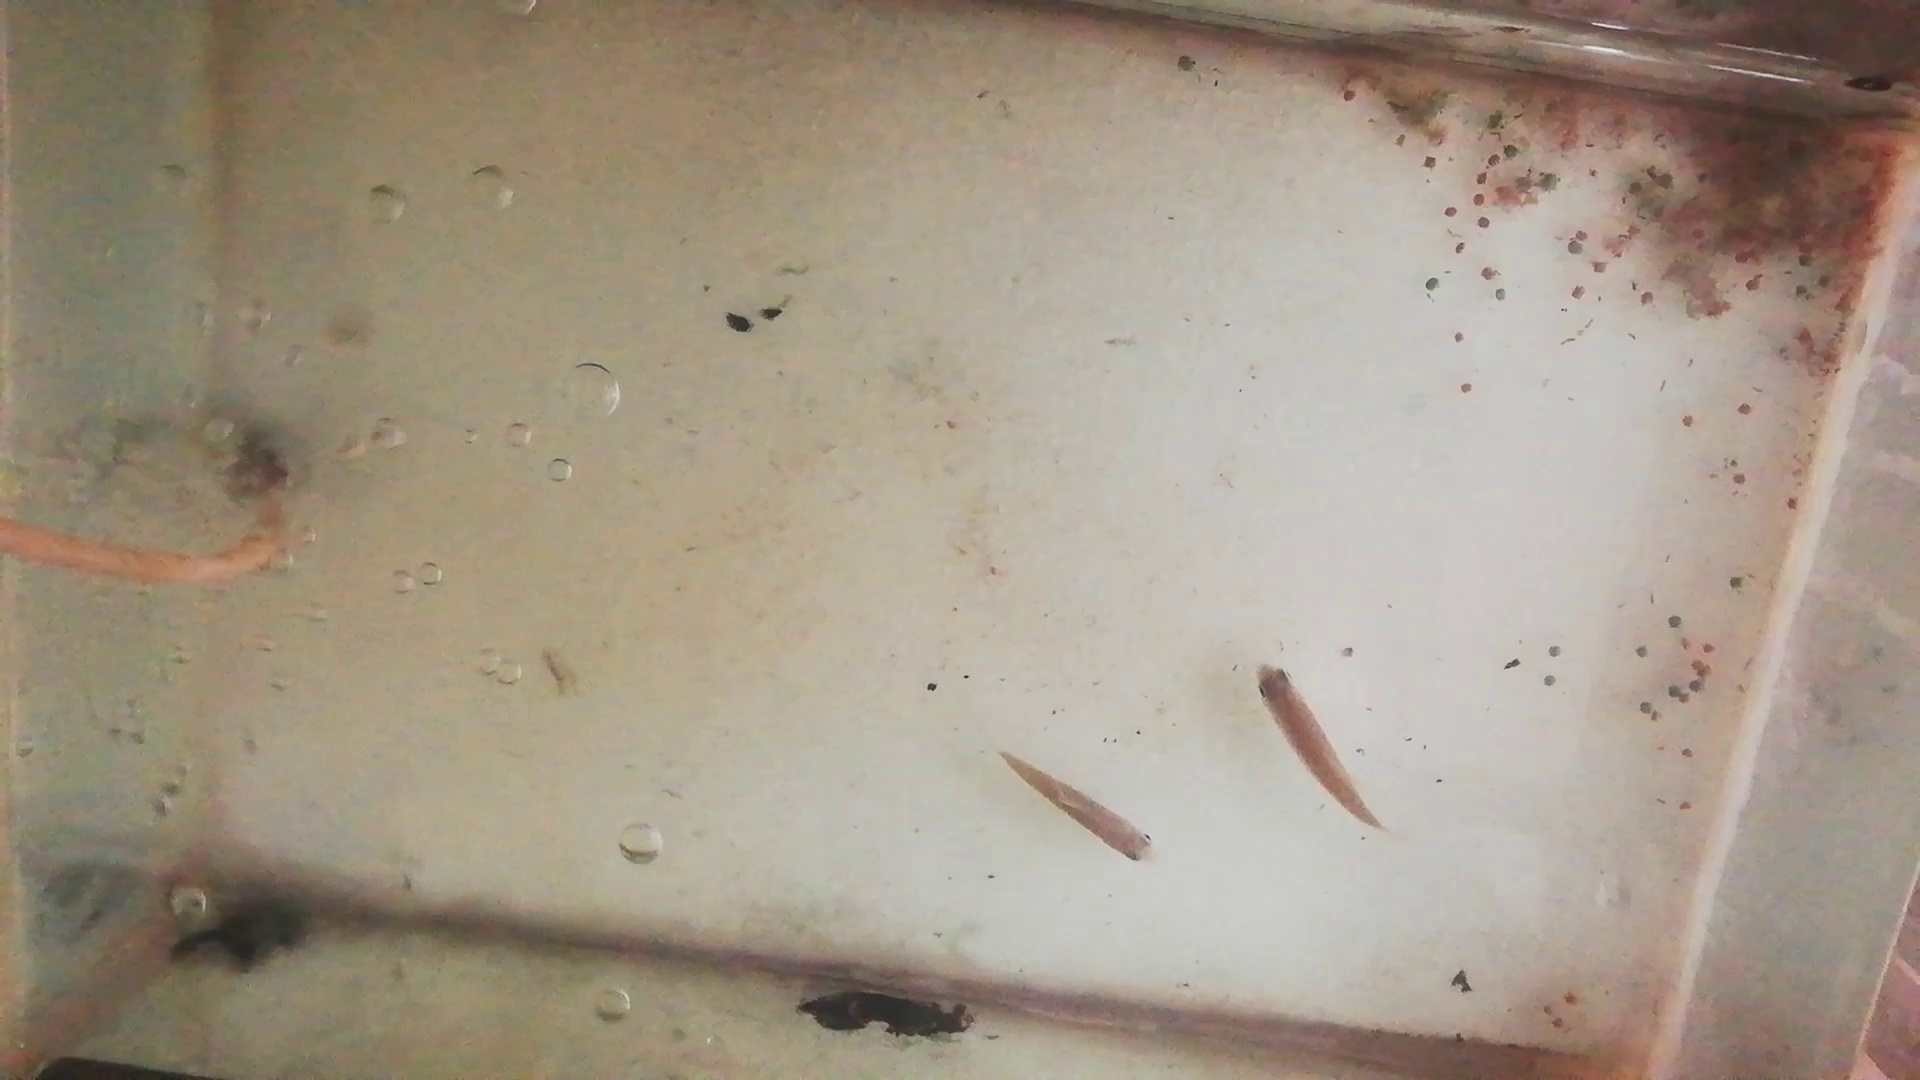fish: (1251, 663, 1378, 829), (1001, 752, 1156, 865)
